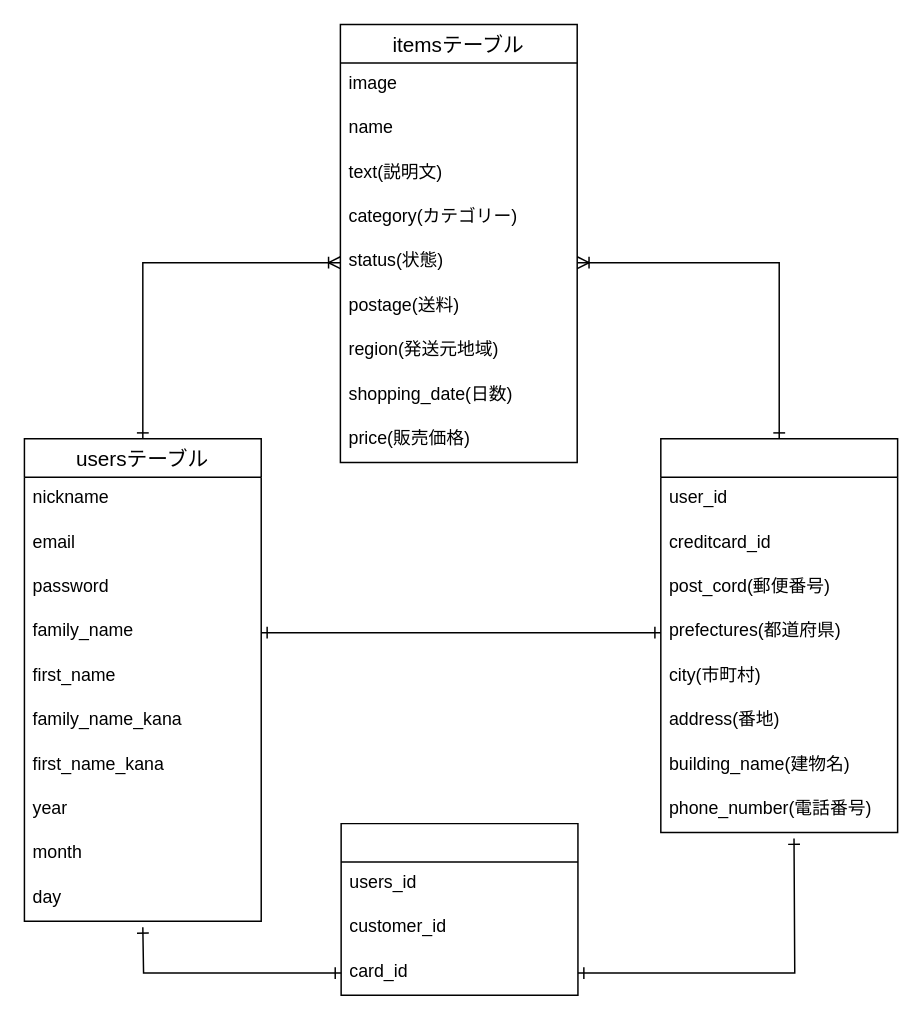
This 922x1020 diagram has some shape labels left out. Here are the shapes that lost their labels. From the top down, the box of each, then its label:
(659, 437, 898, 832): buyerテーブル
(340, 822, 578, 995): credit_cardテーブル
